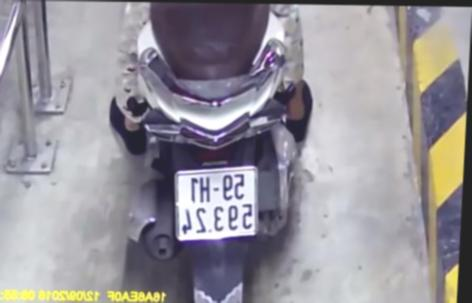License_Plate: (157, 162, 275, 254)
